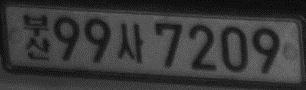0: (220, 25, 250, 73)
2: (188, 23, 217, 71)
7: (154, 21, 183, 68)
9: (251, 27, 280, 75), (83, 16, 112, 63), (53, 15, 81, 62)
부산_V: (22, 13, 52, 62)
사: (116, 22, 144, 62)
